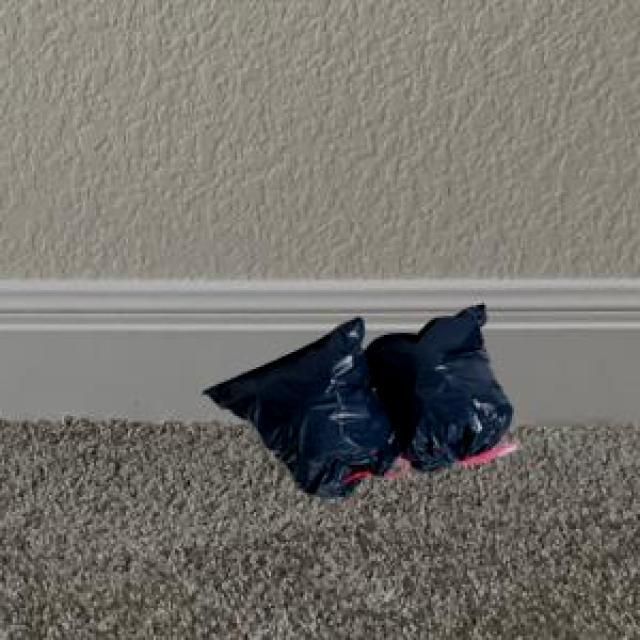Trashbag: (197, 315, 385, 499), (366, 294, 517, 474)
